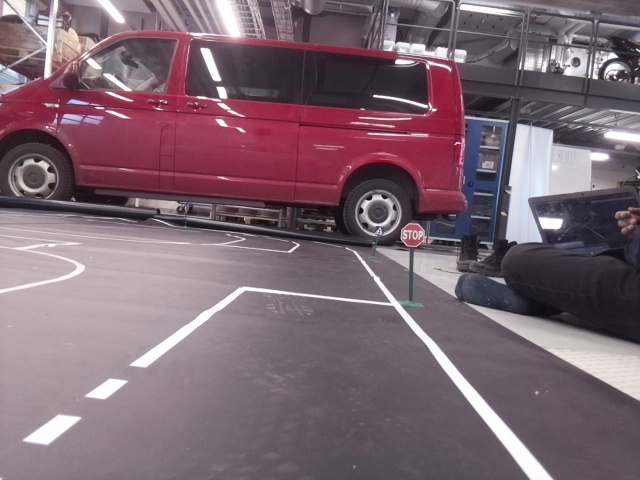Stop: (399, 222, 425, 247)
